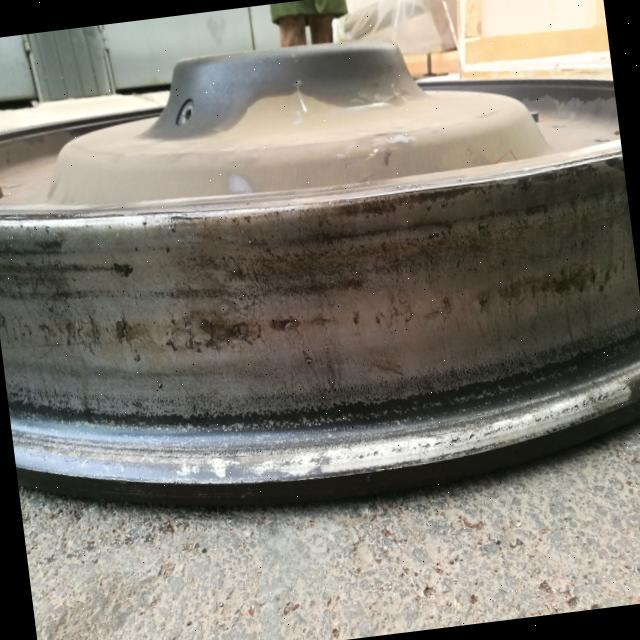Peeling: (202, 316, 252, 353), (539, 272, 594, 298), (113, 314, 139, 350), (267, 315, 301, 335), (112, 260, 136, 279)
